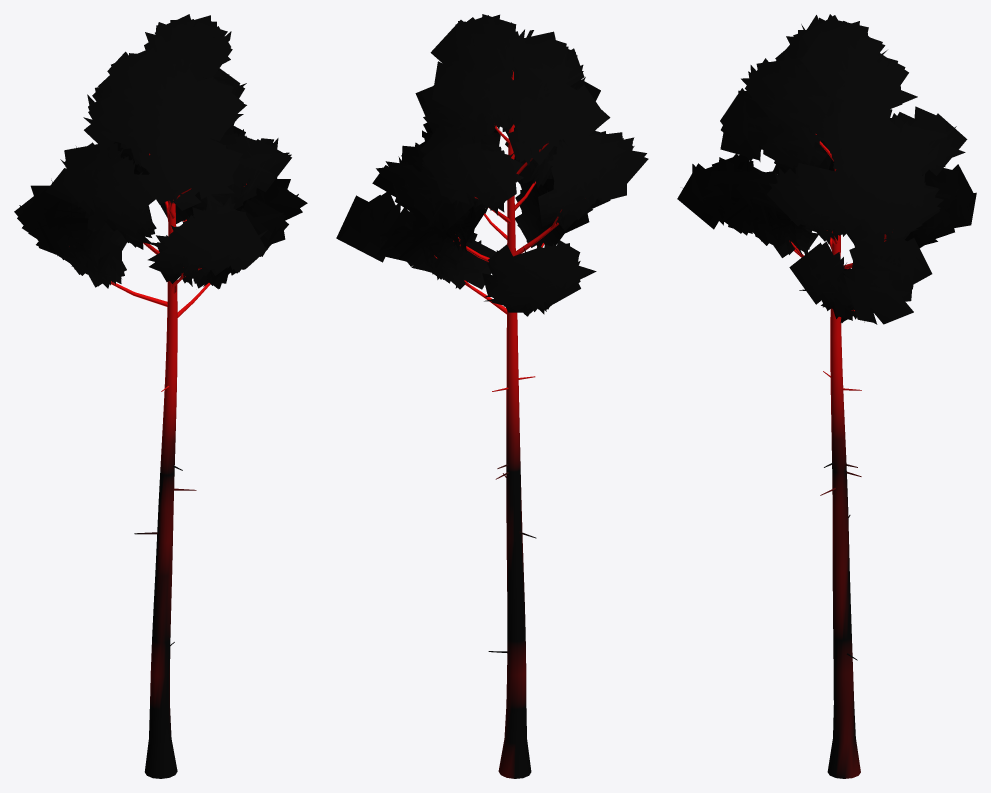
The model's file is tree_pine_a.glb.
3 views of the same model, side by side, from view 1: azimuth 30°, elevation 25°; view 2: azimuth 150°, elevation 25°; view 3: azimuth 270°, elevation 25° (orthographic).
Visible parts, largest first — view 1: tree_pine_a.1, tree_pine_a.0; view 2: tree_pine_a.1, tree_pine_a.0; view 3: tree_pine_a.1, tree_pine_a.0.
Boxes of the visible parts, box(x1,y1,x2,y2) form: tree_pine_a.1: box(14, 14, 307, 289); tree_pine_a.0: box(111, 153, 246, 778); tree_pine_a.1: box(336, 14, 648, 316); tree_pine_a.0: box(434, 70, 561, 778); tree_pine_a.1: box(677, 14, 976, 324); tree_pine_a.0: box(789, 134, 892, 778).
Size of the model in its own units: 7.91 by 20.95 by 7.51.
